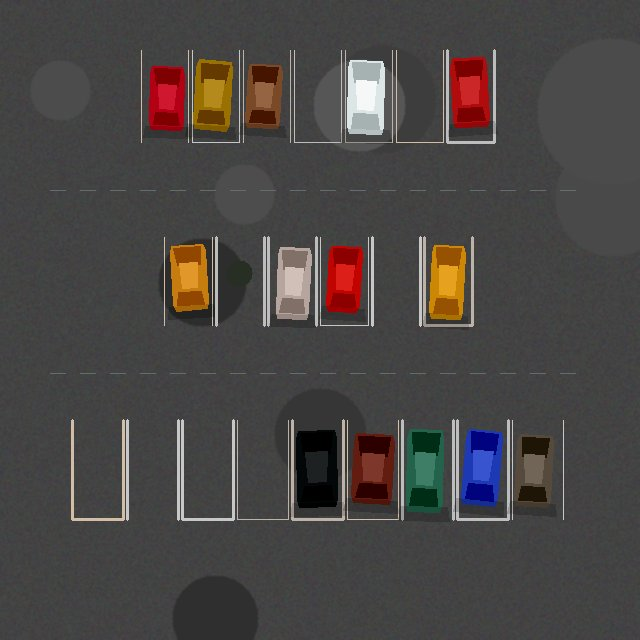space-empty: (72, 420, 123, 519), (127, 420, 178, 519), (182, 420, 233, 519), (237, 420, 288, 519), (294, 50, 341, 142), (396, 50, 443, 142), (216, 237, 264, 325), (372, 237, 420, 325)
space-occupied: (292, 420, 343, 519), (347, 420, 398, 519), (402, 420, 453, 519), (457, 420, 508, 519), (512, 420, 563, 519), (141, 50, 188, 142), (192, 50, 239, 142), (243, 50, 290, 142), (345, 50, 392, 142), (447, 50, 494, 142), (164, 237, 212, 325), (268, 237, 316, 325), (320, 237, 368, 325), (424, 237, 472, 325)
